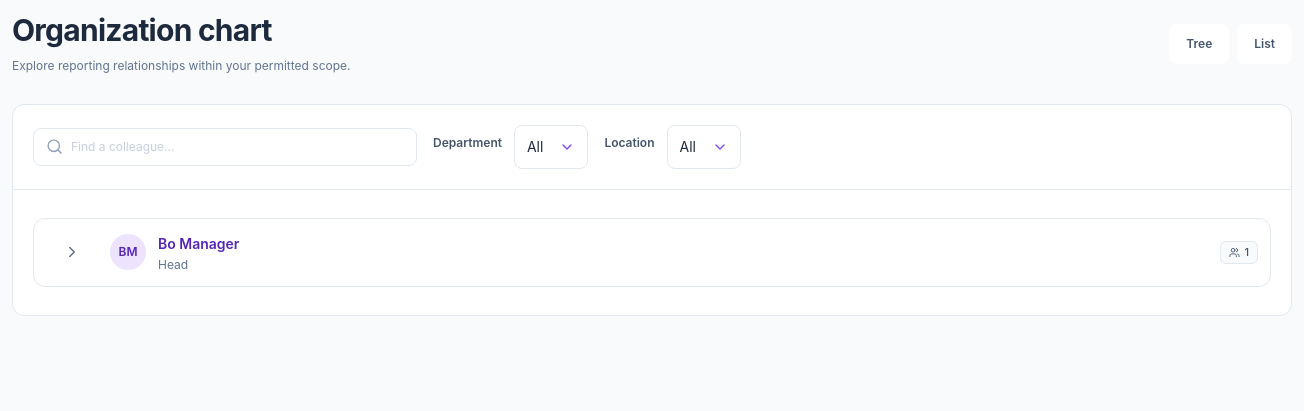
Test case: Org chart › loads direct reports only when a node is expanded
expect the button "Bo Manager" is shown: met, box top-left (158, 234), bottom-right (239, 254)
Click the button named "show 1 reports of bo manager". click: [72, 252]
box: top-left (46, 232), bottom-right (98, 272)
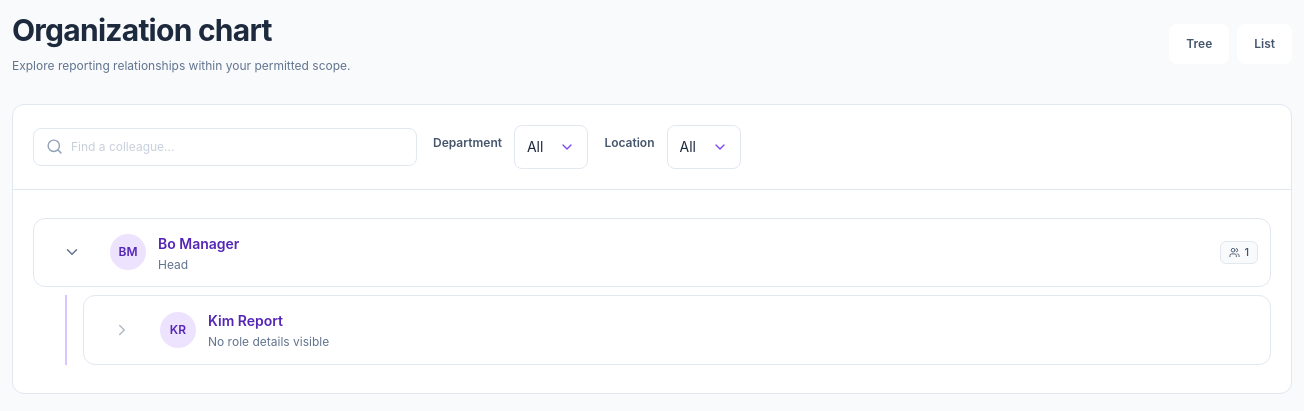
expect the button "Kim Report" is shown: met, box top-left (208, 311), bottom-right (283, 331)
Click the button named "hide 1 reports". click: [72, 252]
box: top-left (46, 232), bottom-right (98, 272)
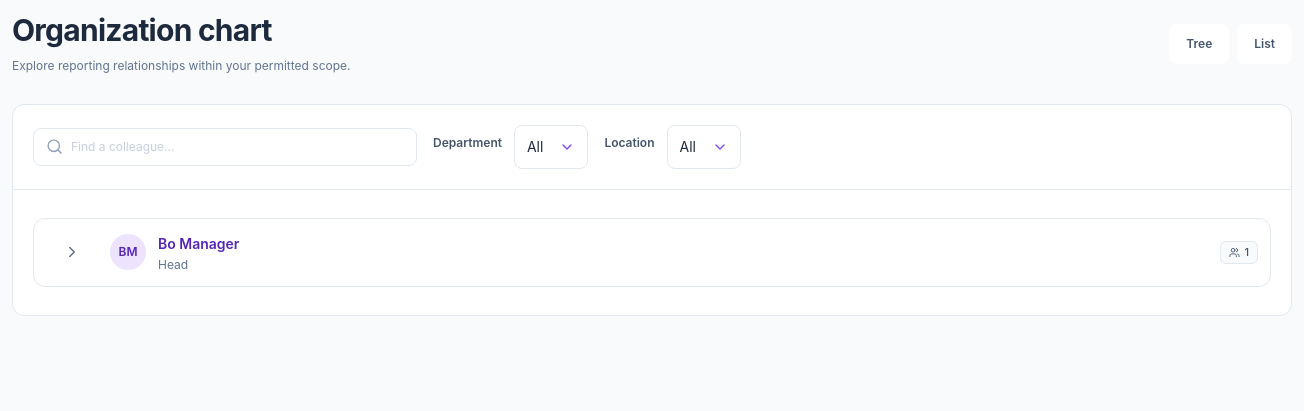
expect the button "Kim Report" is gone: met
